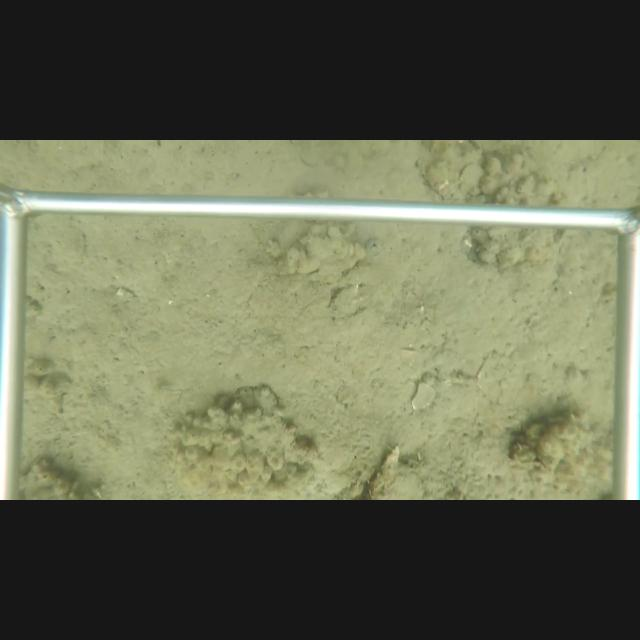Oyster-Closed: (419, 142, 486, 202), (326, 281, 363, 318)
